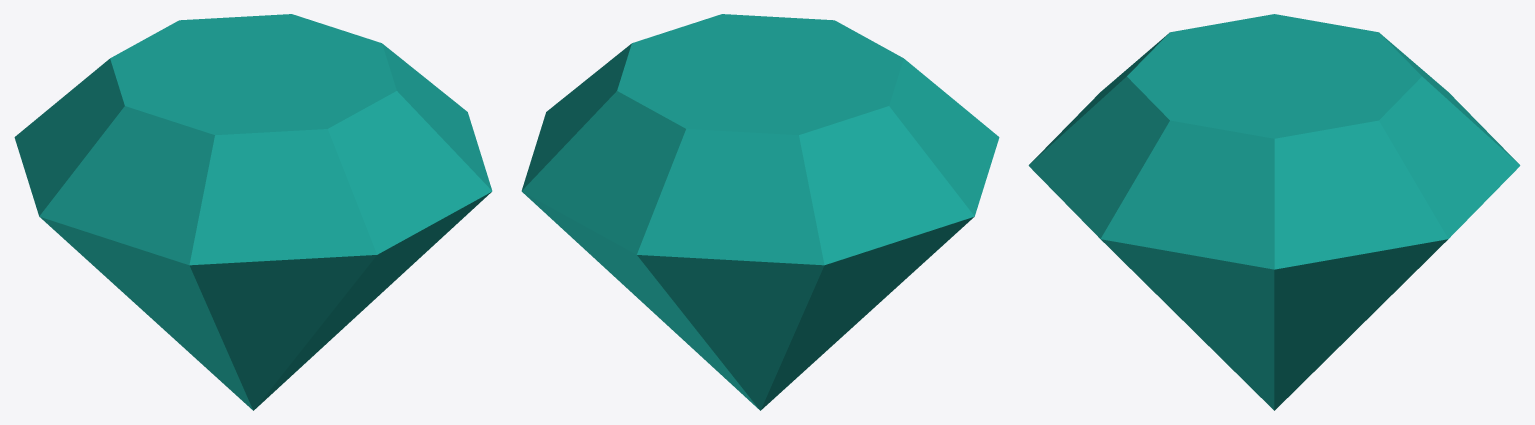
File: gem.glb
3 views of the same model, side by side, from view 1: azimuth 30°, elevation 25°; view 2: azimuth 150°, elevation 25°; view 3: azimuth 270°, elevation 25° (orthographic).
Visible parts, largest first — view 1: gem_top, gem_bottom; view 2: gem_top, gem_bottom; view 3: gem_top, gem_bottom.
Boxes of the visible parts, x1,y1,x2,y2 form: gem_top: (14,14,492,265); gem_bottom: (39,192,491,410); gem_top: (521,14,999,265); gem_bottom: (522,192,974,410); gem_top: (1028,14,1520,269); gem_bottom: (1101,239,1447,410).
Size of the model in its own units: 0.8 by 0.6 by 0.8.
